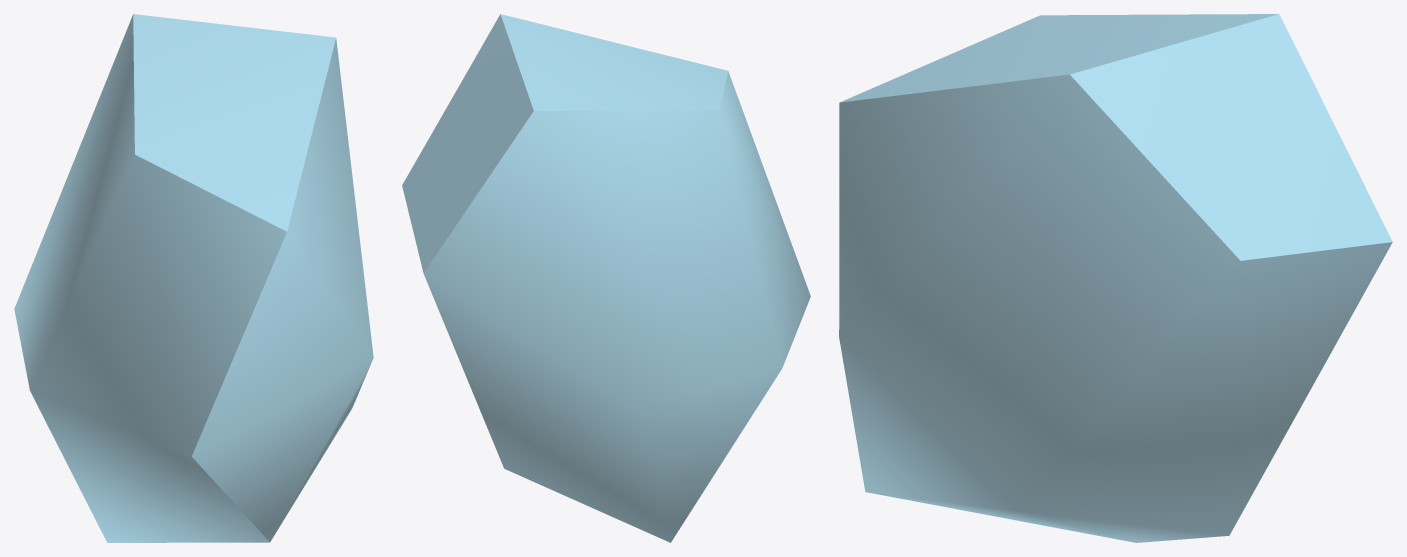
File: SM_Shard_4.glb
3 renders of one model, left to right at view 1: azimuth 30°, elevation 25°; view 2: azimuth 150°, elevation 25°; view 3: azimuth 270°, elevation 25°, orthographic. The views are drawn at different scales.
Visible parts, largest first — view 1: SM_Shard_4; view 2: SM_Shard_4; view 3: SM_Shard_4.
Boxes of the visible parts, bbox=[...] form: SM_Shard_4: bbox=[14, 14, 373, 542]; SM_Shard_4: bbox=[402, 14, 810, 542]; SM_Shard_4: bbox=[839, 14, 1392, 542].
Bounding box in the file's own units: 0.1445 × 0.1985 × 0.1686.
